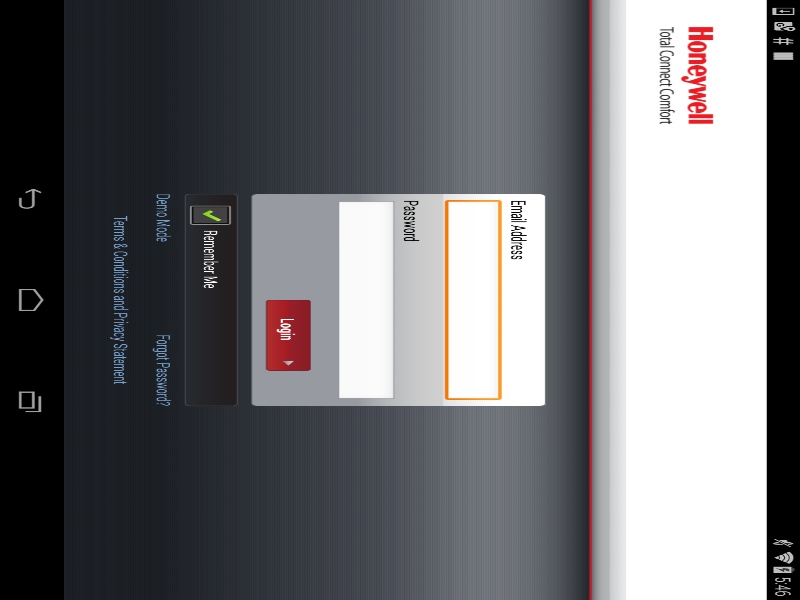Button: (640, 229, 792, 250), (413, 292, 516, 304)
